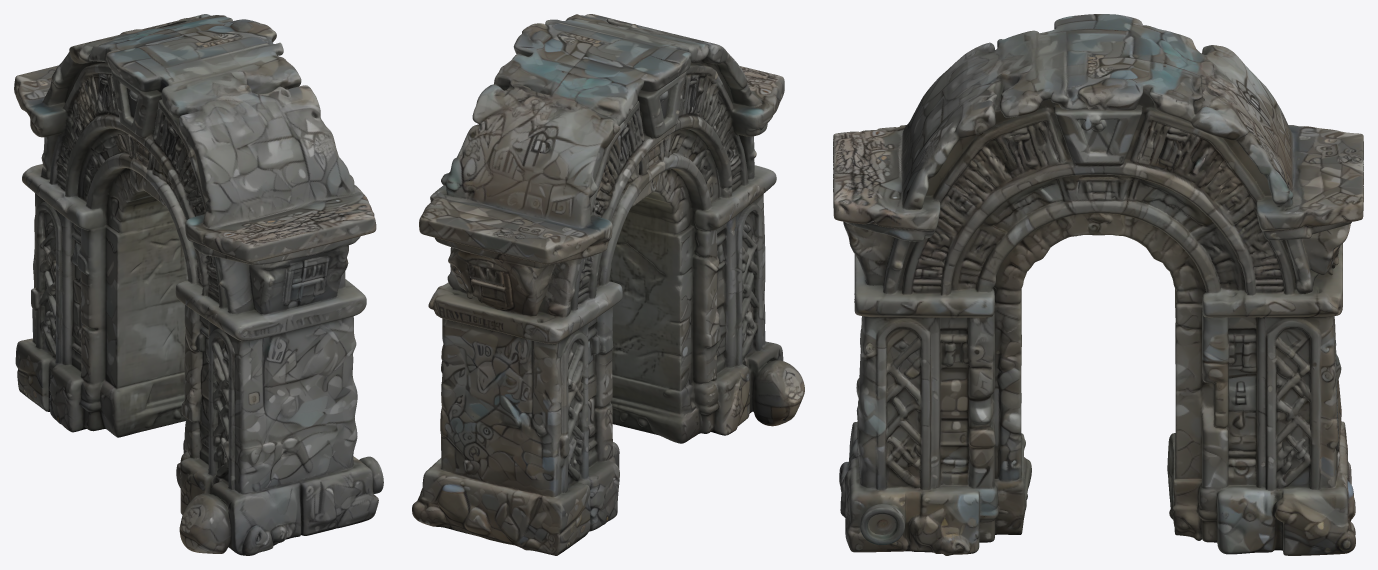
The model's file is ruin_arch_portal.glb.
The picture shows the model from 3 angles, left to right: view 1: azimuth 30°, elevation 25°; view 2: azimuth 150°, elevation 25°; view 3: azimuth 270°, elevation 25°; orthographic projection. The views are drawn at different scales.
Parts seen in each view (by area): view 1: tripo_node_d8a1d5da-c2f6-40ee-9562-3897e08a0c6e; view 2: tripo_node_d8a1d5da-c2f6-40ee-9562-3897e08a0c6e; view 3: tripo_node_d8a1d5da-c2f6-40ee-9562-3897e08a0c6e.
Boxes of the visible parts, x1,y1,x2,y2 form: tripo_node_d8a1d5da-c2f6-40ee-9562-3897e08a0c6e: [14, 14, 383, 555]; tripo_node_d8a1d5da-c2f6-40ee-9562-3897e08a0c6e: [412, 14, 804, 555]; tripo_node_d8a1d5da-c2f6-40ee-9562-3897e08a0c6e: [833, 14, 1363, 555].
Bounding box in the file's own units: 0.46 × 0.9988 × 1.
1 material, 1 textured.
